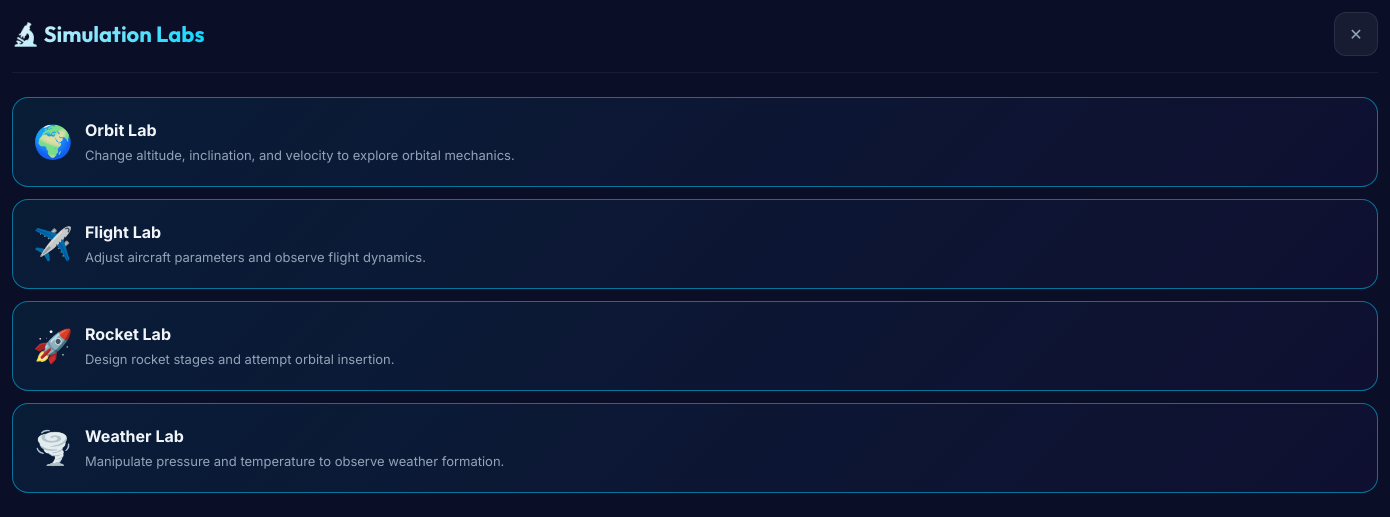
Test: EducationPanelRouter › handles rocket launch simulation with fake timers
The width and height of the screenshot is (1390, 517).
Step 1. Click the text "Rocket Lab" → (128, 334), box [85,324,171,344]
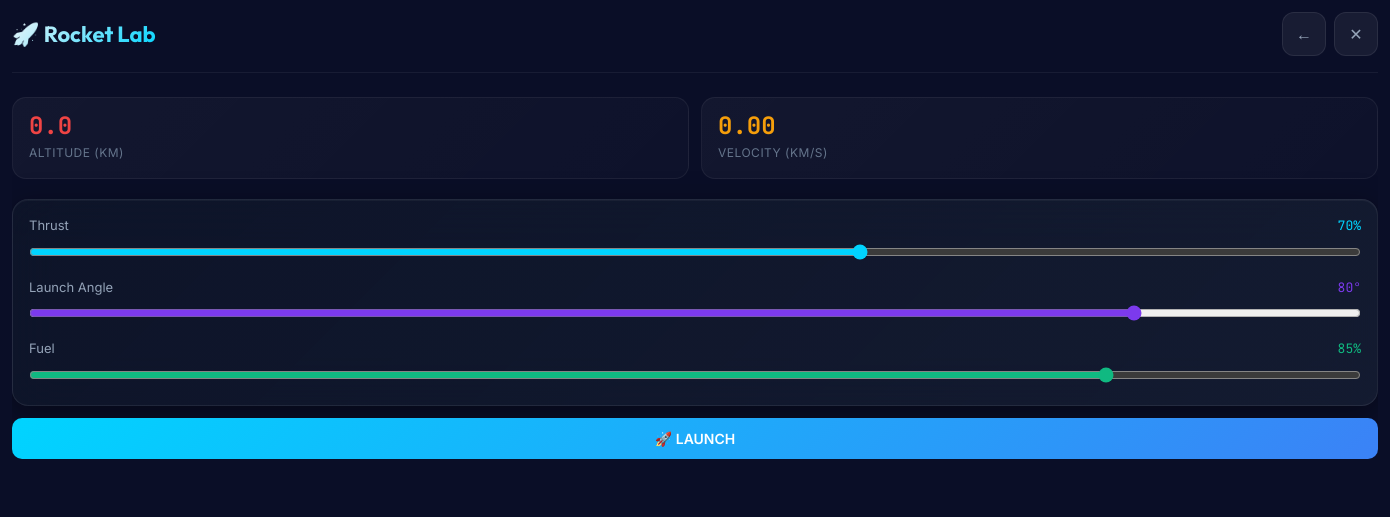
Step 2. Click the button "🚀 LAUNCH" → (695, 438), box [12,418,1378,458]
Wait 200 ms
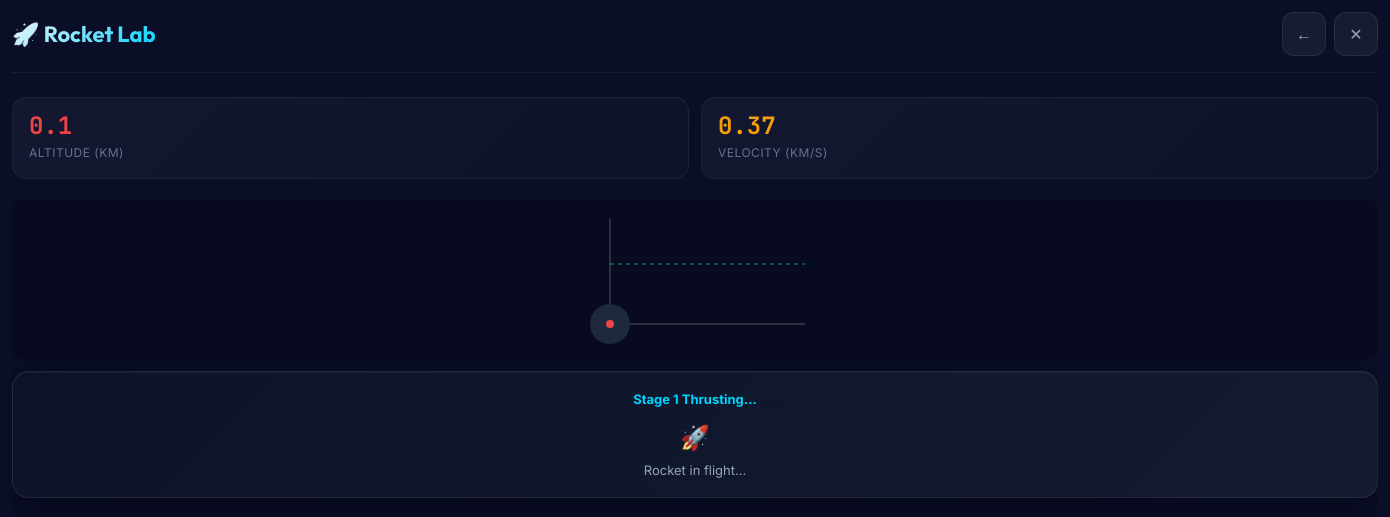
Check: the text "Rocket in flight..." is shown, box [644,462,746,478]
